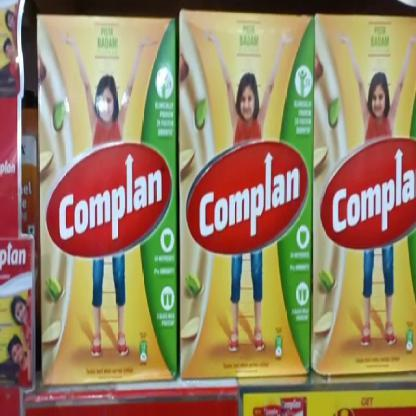Complan Pista Badam: (38, 18, 176, 382), (181, 17, 314, 380), (314, 15, 416, 387)
